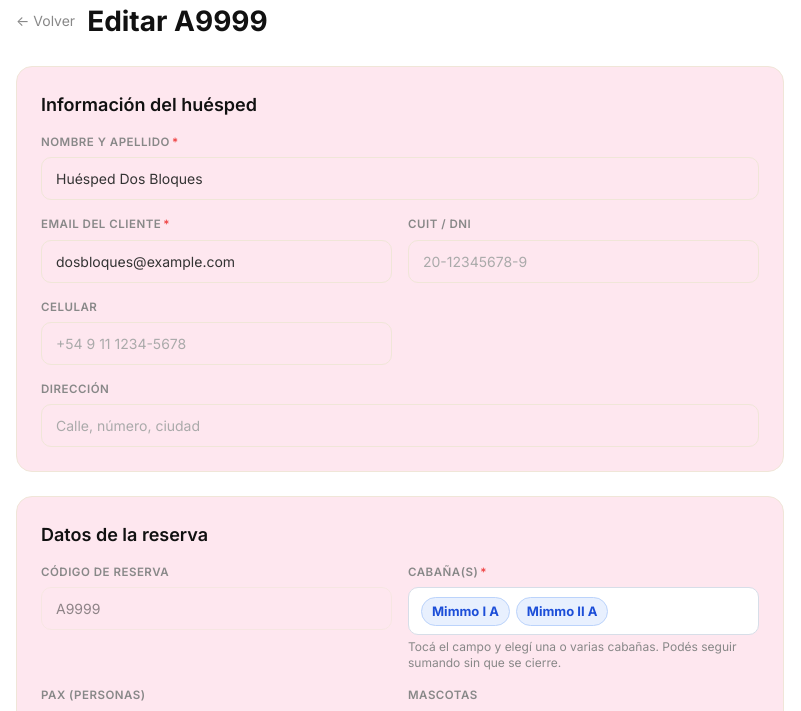
Test: ReservaForm.jsx — editar: reserva multi-cabaña de DOS bloques distintos › el picker abre con las cabañas de AMBOS bloques pre-tildadas, agrupadas correctamente
Expected: the text "Mimmo I A" is shown, [421,597,510,626]
Expected: the text "Mimmo II A" is shown, [516,597,608,626]
Step 1. Click the button with test id "cabana-picker-trigger" → (584, 611), box [408,587,759,635]
(page scrolled)
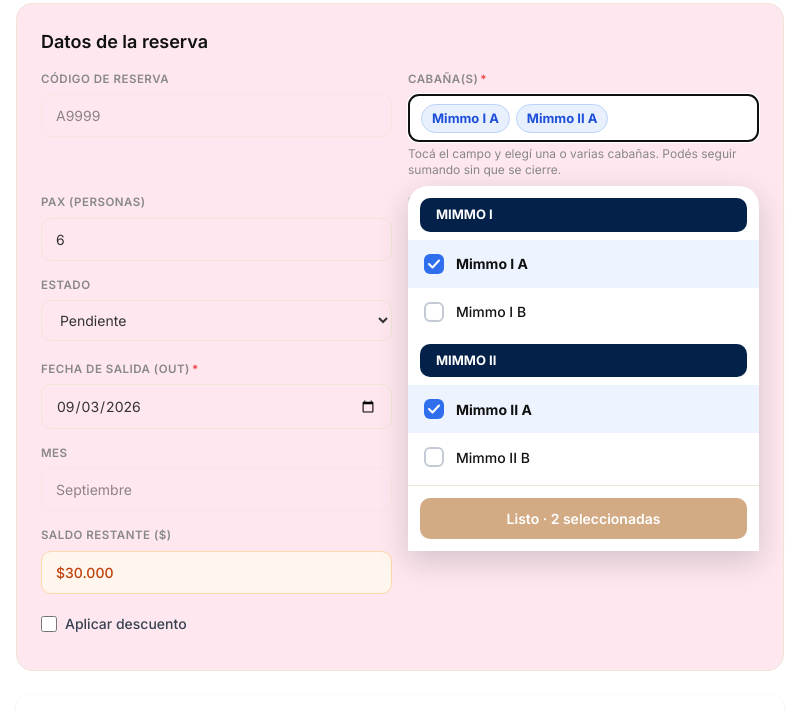
Result: the text "MIMMO I" is shown at [420,198,747,232]
Result: the text "MIMMO II" is shown at [420,344,747,377]
